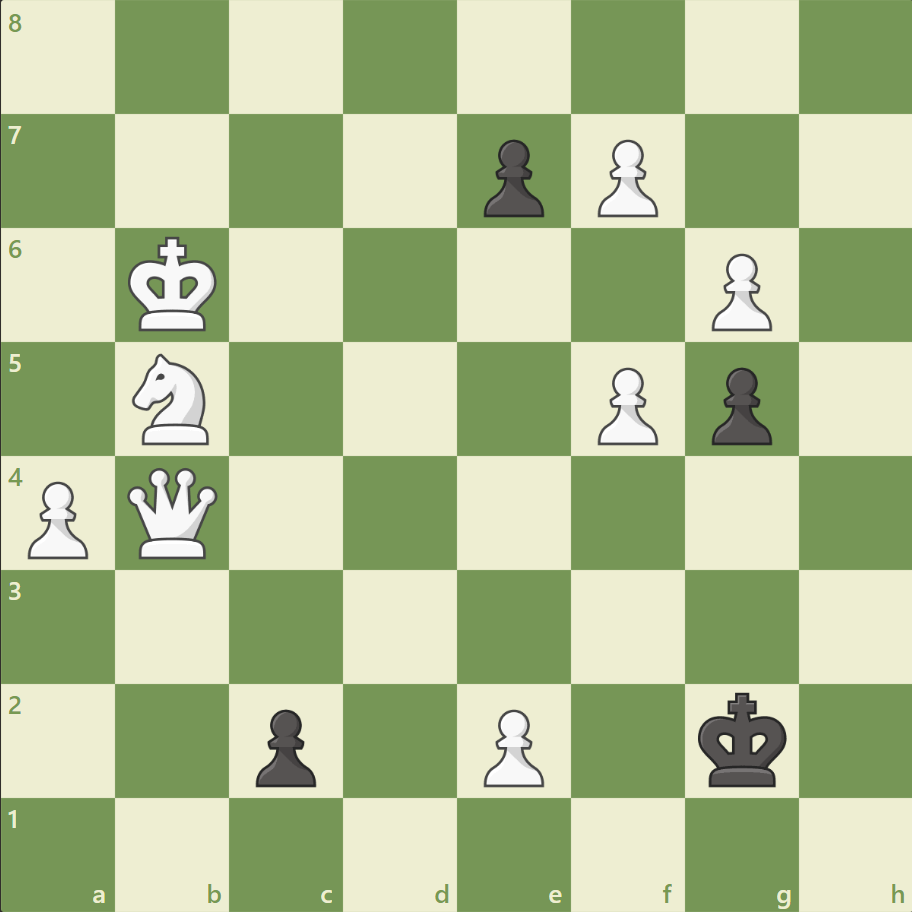K: (124, 231, 224, 339)
N: (124, 348, 222, 450)
P: (701, 246, 776, 337), (20, 473, 95, 564), (474, 700, 549, 791), (588, 132, 662, 223), (588, 359, 662, 450)
Q: (124, 463, 223, 562)
k: (692, 685, 792, 793)
p: (474, 132, 549, 223), (701, 359, 776, 450), (247, 700, 322, 791)
